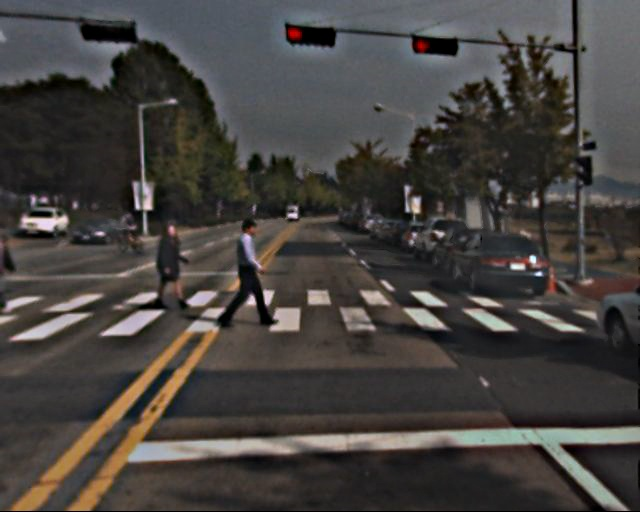person: (223, 218, 273, 329), (153, 218, 189, 308)
